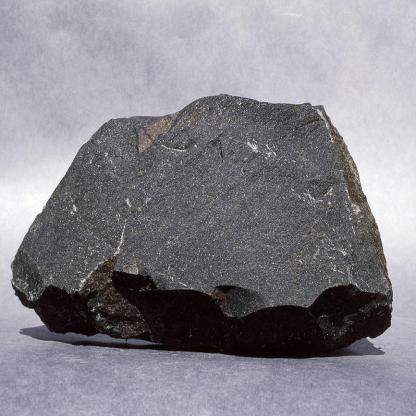Igneous_Basalt: (11, 81, 410, 353)
